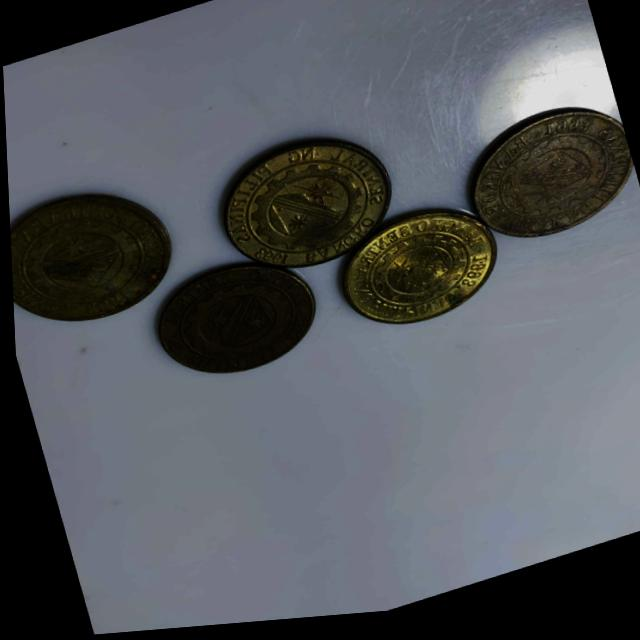25Cent_Old_Back: (210, 129, 396, 288), (469, 108, 640, 258), (330, 200, 507, 344), (7, 180, 168, 337), (142, 250, 306, 397)
